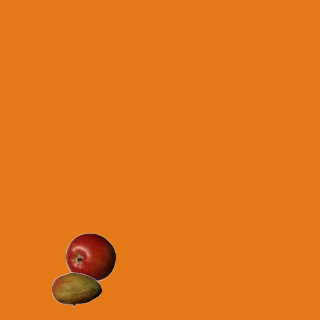Apple Braeburn: (65, 232, 115, 282)
Papaya: (51, 264, 101, 314)
